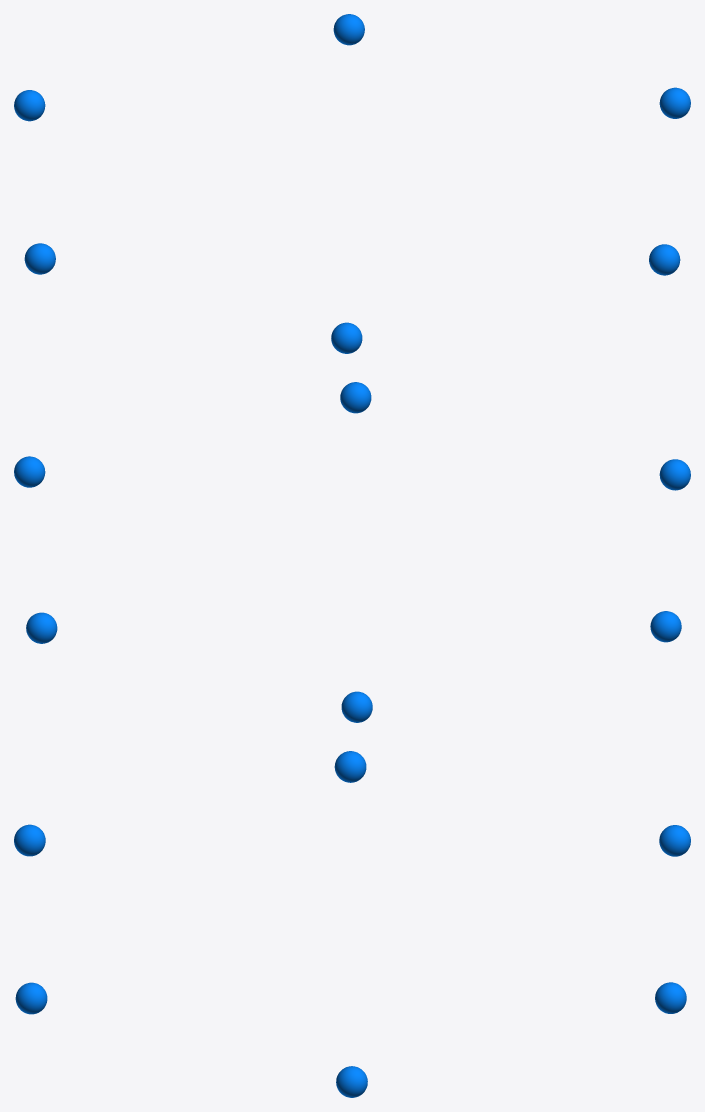
The picture shows the model from 3 angles, top to bottom: view 1: azimuth 30°, elevation 25°; view 2: azimuth 150°, elevation 25°; view 3: azimuth 270°, elevation 25°; orthographic projection.
Visible parts, largest first — view 1: Sphere052; view 2: Sphere052; view 3: Sphere052.
Boxes of the visible parts, x1=… form: Sphere052: x1=14, y1=14, x2=690, y2=353; Sphere052: x1=14, y1=382, x2=690, y2=722; Sphere052: x1=14, y1=751, x2=690, y2=1097.
Bounding box in the file's own units: 201 × 8.22 × 175.
